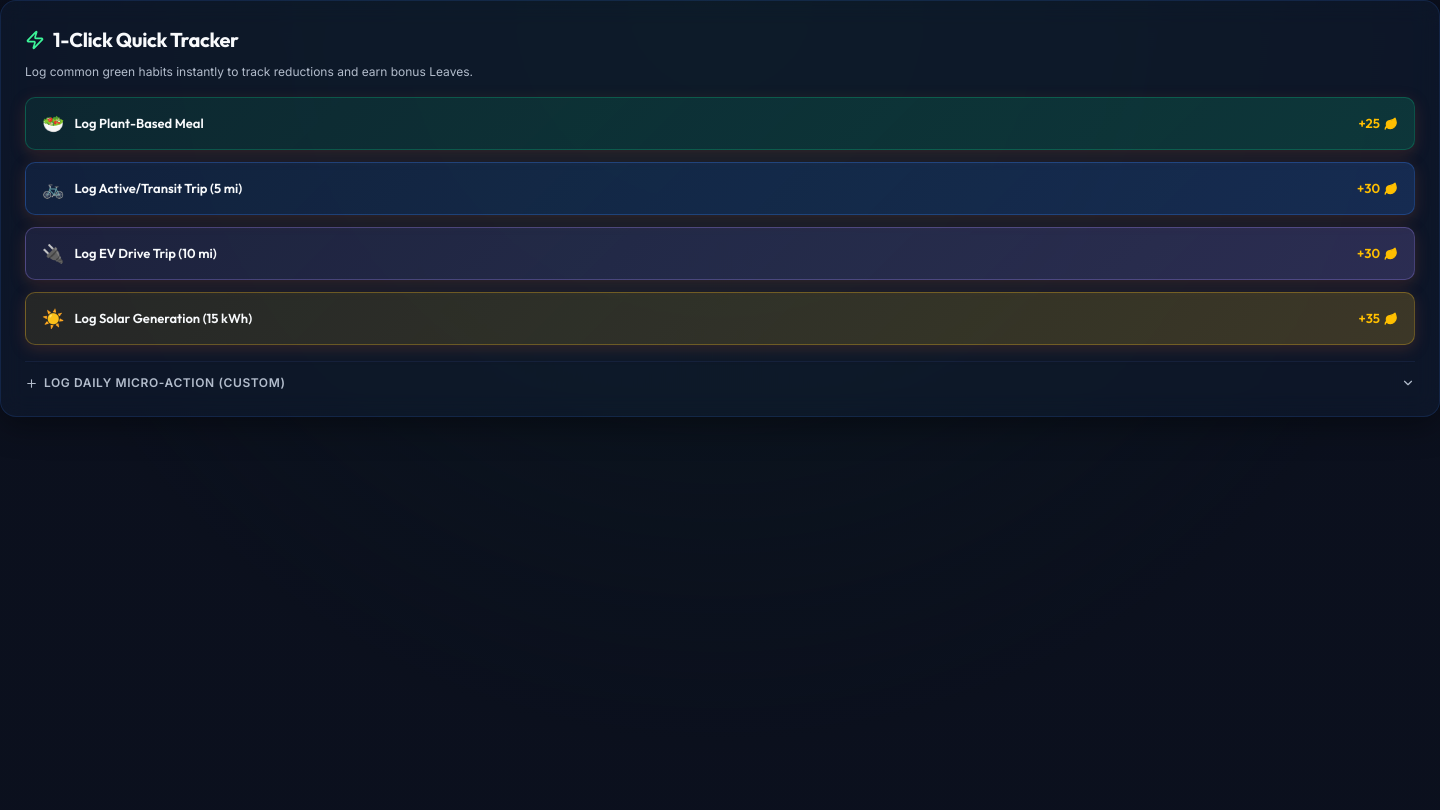
QuickTracker component › reveals custom form when toggle is clicked
The width and height of the screenshot is (1440, 810).
Click the button "Log Daily Micro-Action (Custom)" at x=165, y=382, box [25, 374, 1415, 392]
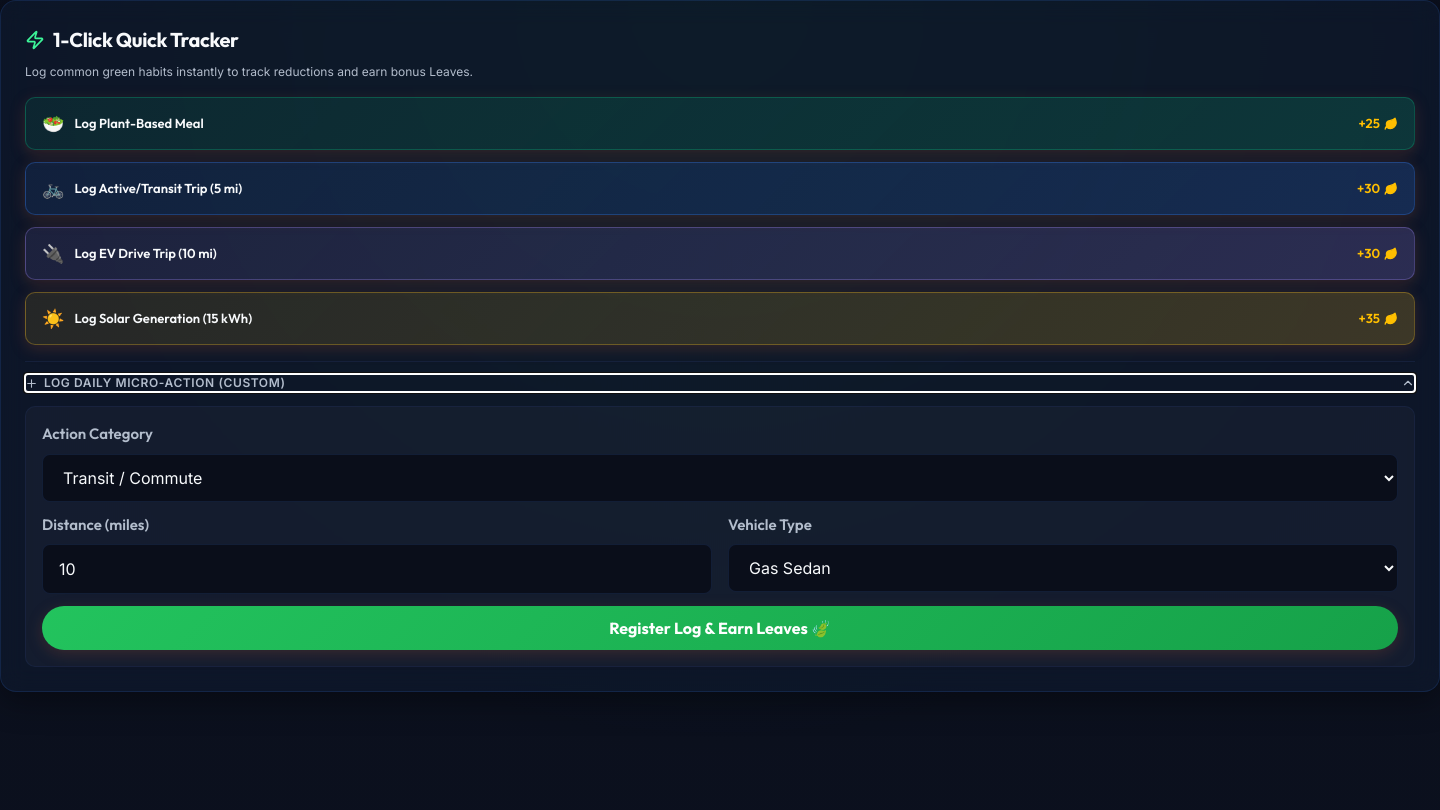
Expected: the button "Register Log & Earn Leaves 🍃" is shown, [42, 606, 1398, 650]
